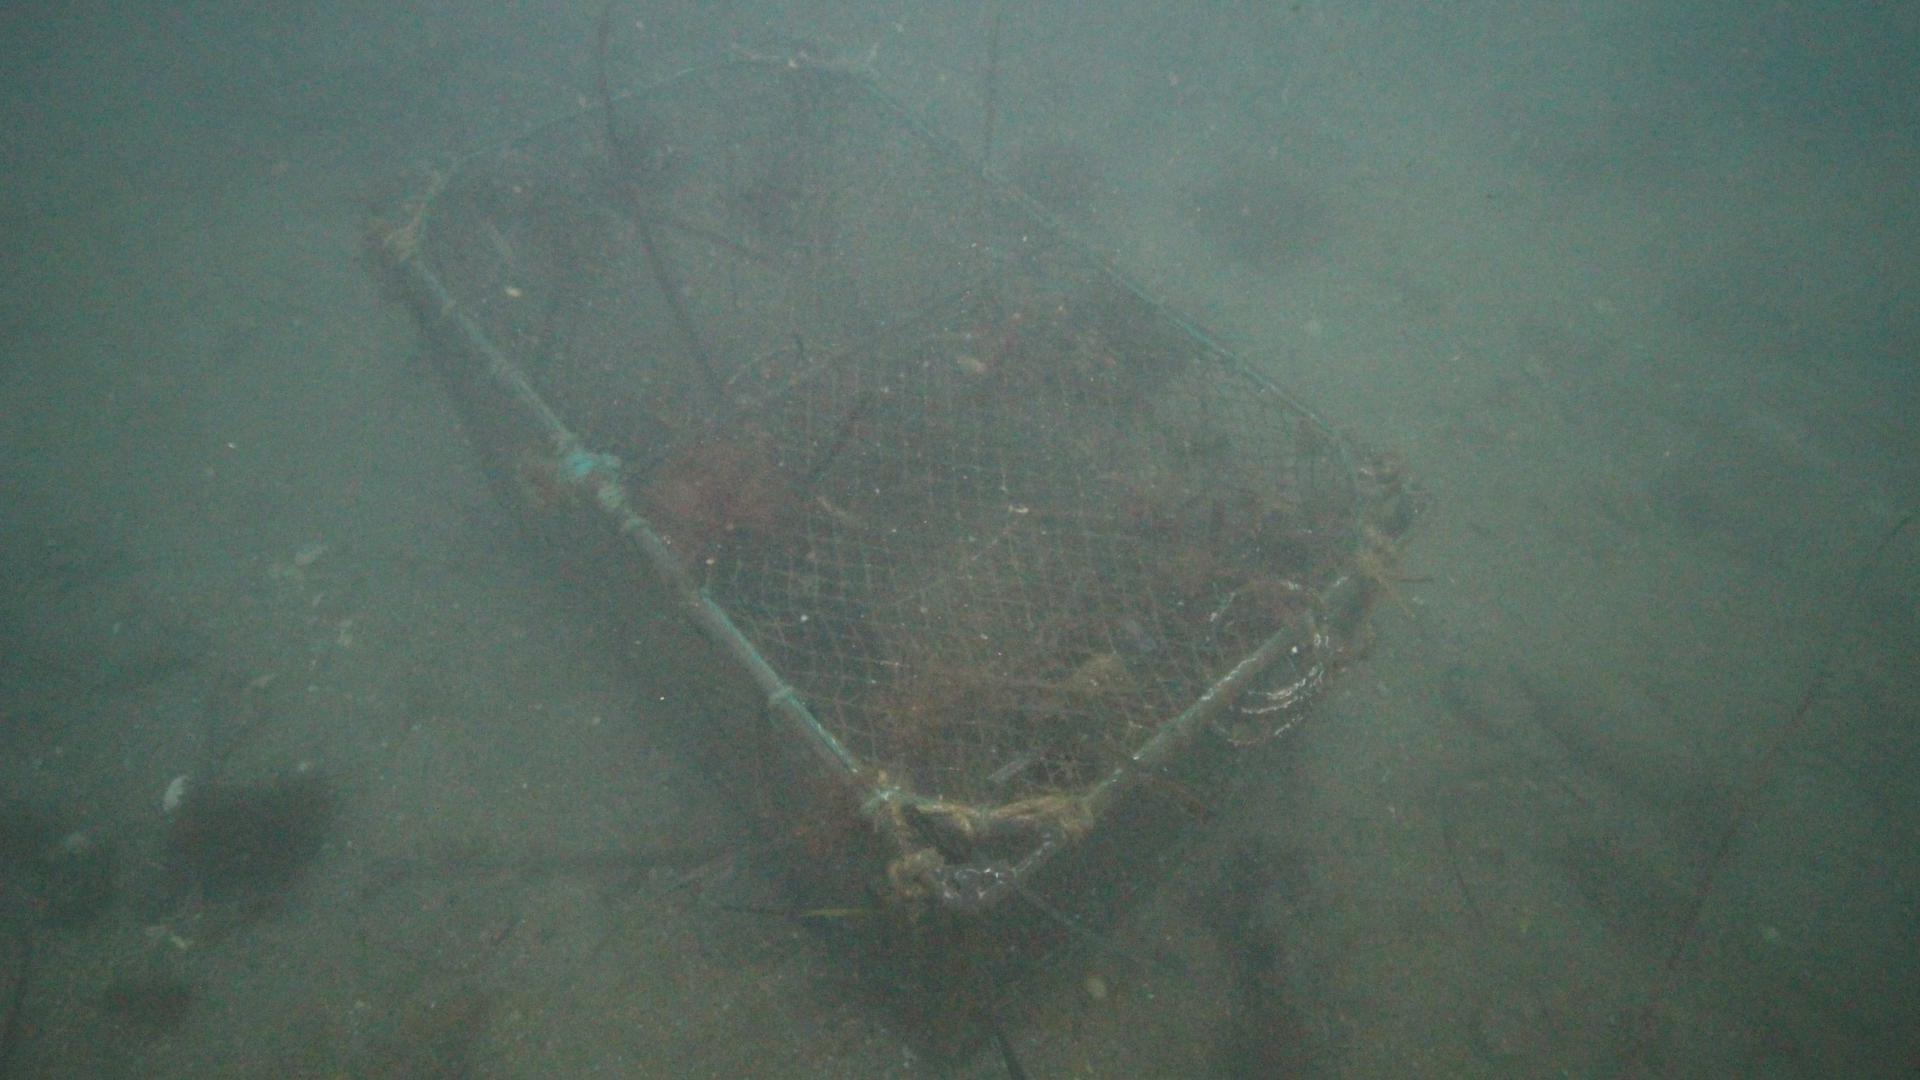rectangular fish trap: (359, 20, 1439, 1080)
